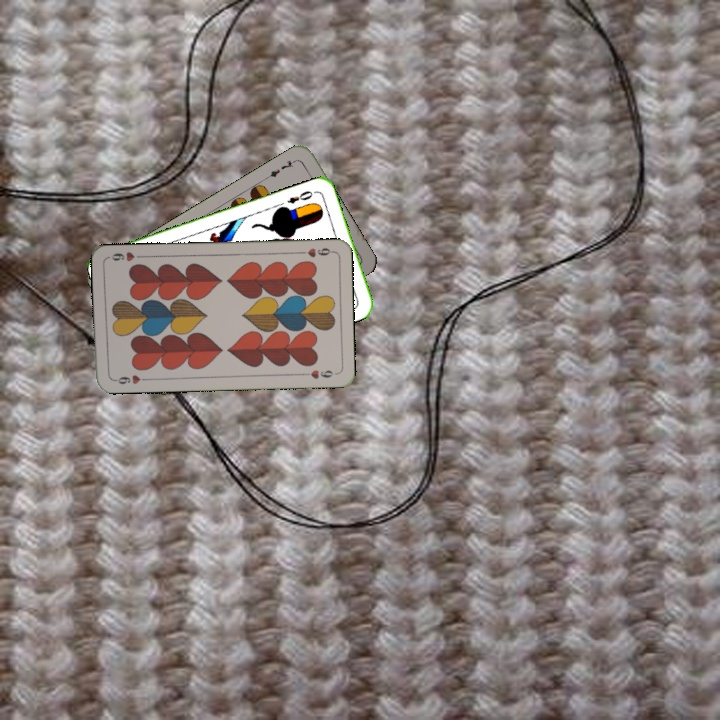E7: (262, 155, 299, 181)
EO: (283, 187, 315, 206)
H9: (109, 371, 150, 387), (295, 244, 335, 260)
